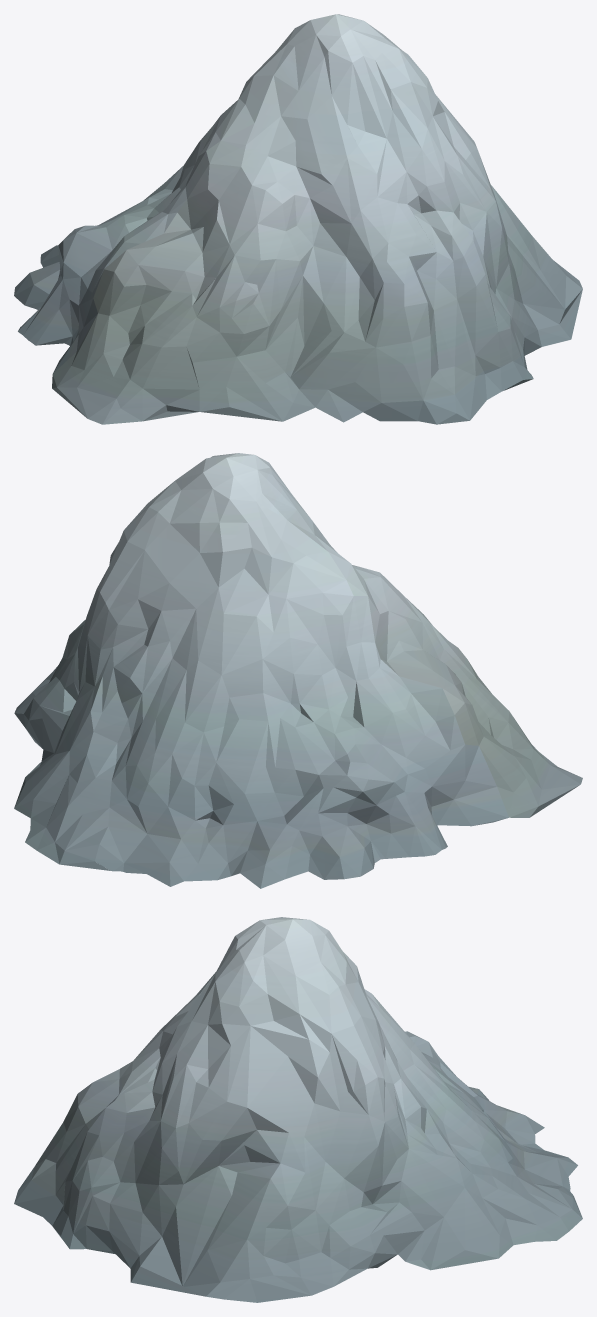
File: low_poly_mountain.glb
The picture shows the model from 3 angles, top to bottom: view 1: azimuth 30°, elevation 25°; view 2: azimuth 150°, elevation 25°; view 3: azimuth 270°, elevation 25°; orthographic projection. The views are drawn at different scales.
Visible parts, largest first — view 1: Object_5; view 2: Object_5; view 3: Object_5.
Boxes of the visible parts, x1,y1,x2,y2 form: Object_5: [14, 14, 582, 424]; Object_5: [14, 453, 582, 888]; Object_5: [14, 917, 582, 1302].
Bounding box in the file's own units: 116 × 65.54 × 116.
1 material, 1 textured.
